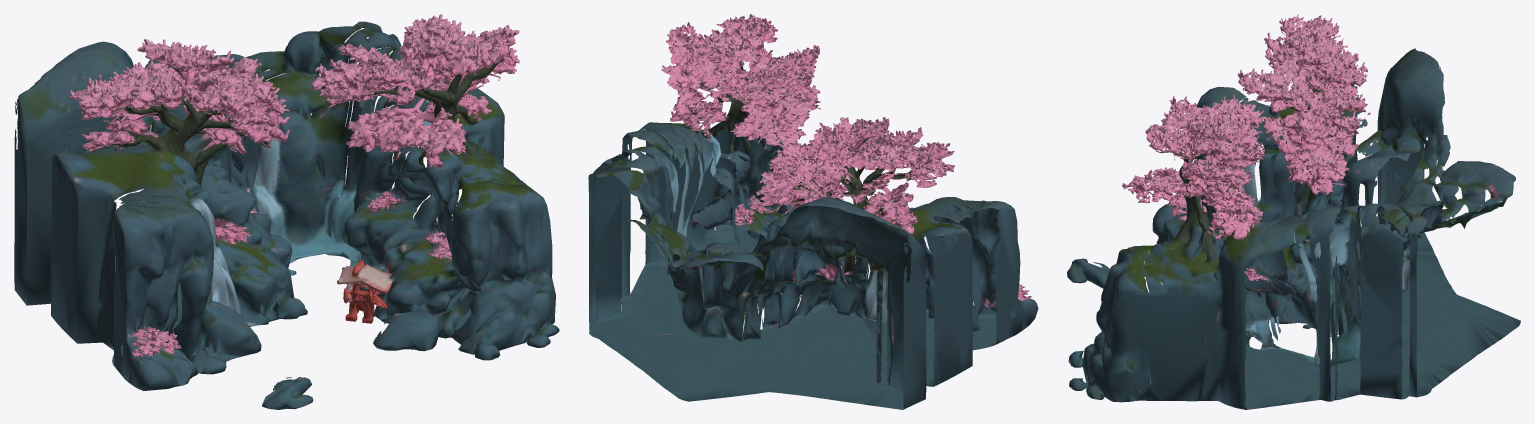
File: sakura_falls.glb
3 renders of one model, left to right at view 1: azimuth 30°, elevation 25°; view 2: azimuth 150°, elevation 25°; view 3: azimuth 270°, elevation 25°, orthographic. The views are drawn at different scales.
Bounding box in the file's own units: 1.76 × 1.15 × 1.84.
Materials: 1 (1 with a texture image).
